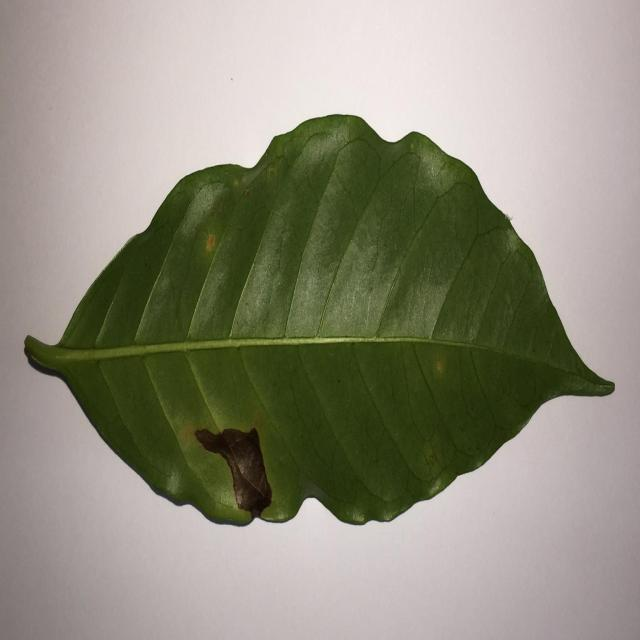Plaga-Minador: (23, 115, 617, 529)
